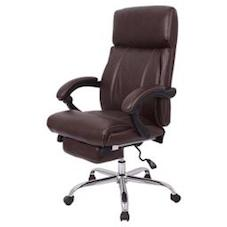chair: (31, 0, 203, 226)
